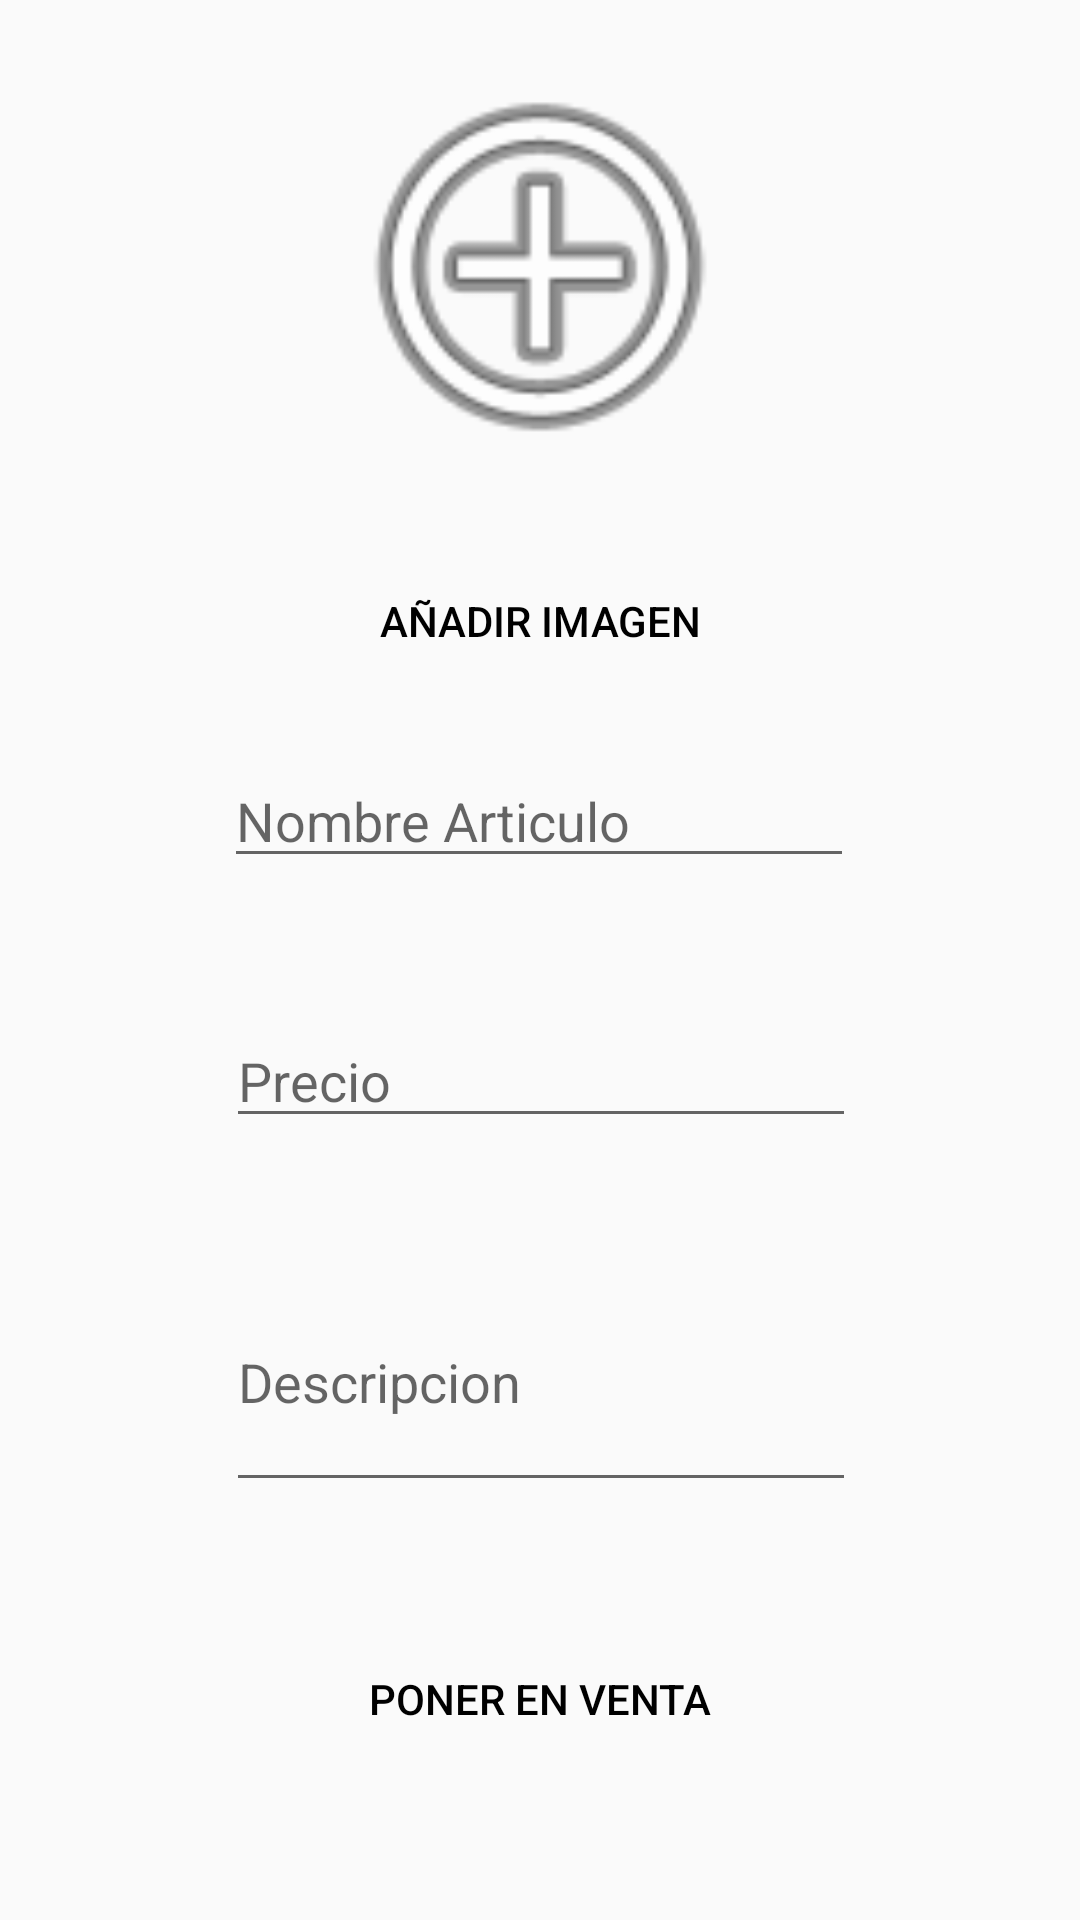

Icons on this 1080 x 1920 Android screen, each with the point to tap as (x,y):
add: (540,267)
